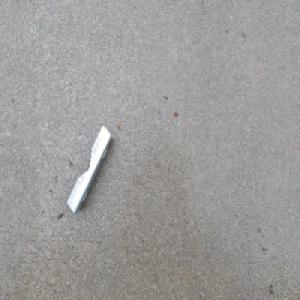ClampPart: (67, 123, 113, 215)
